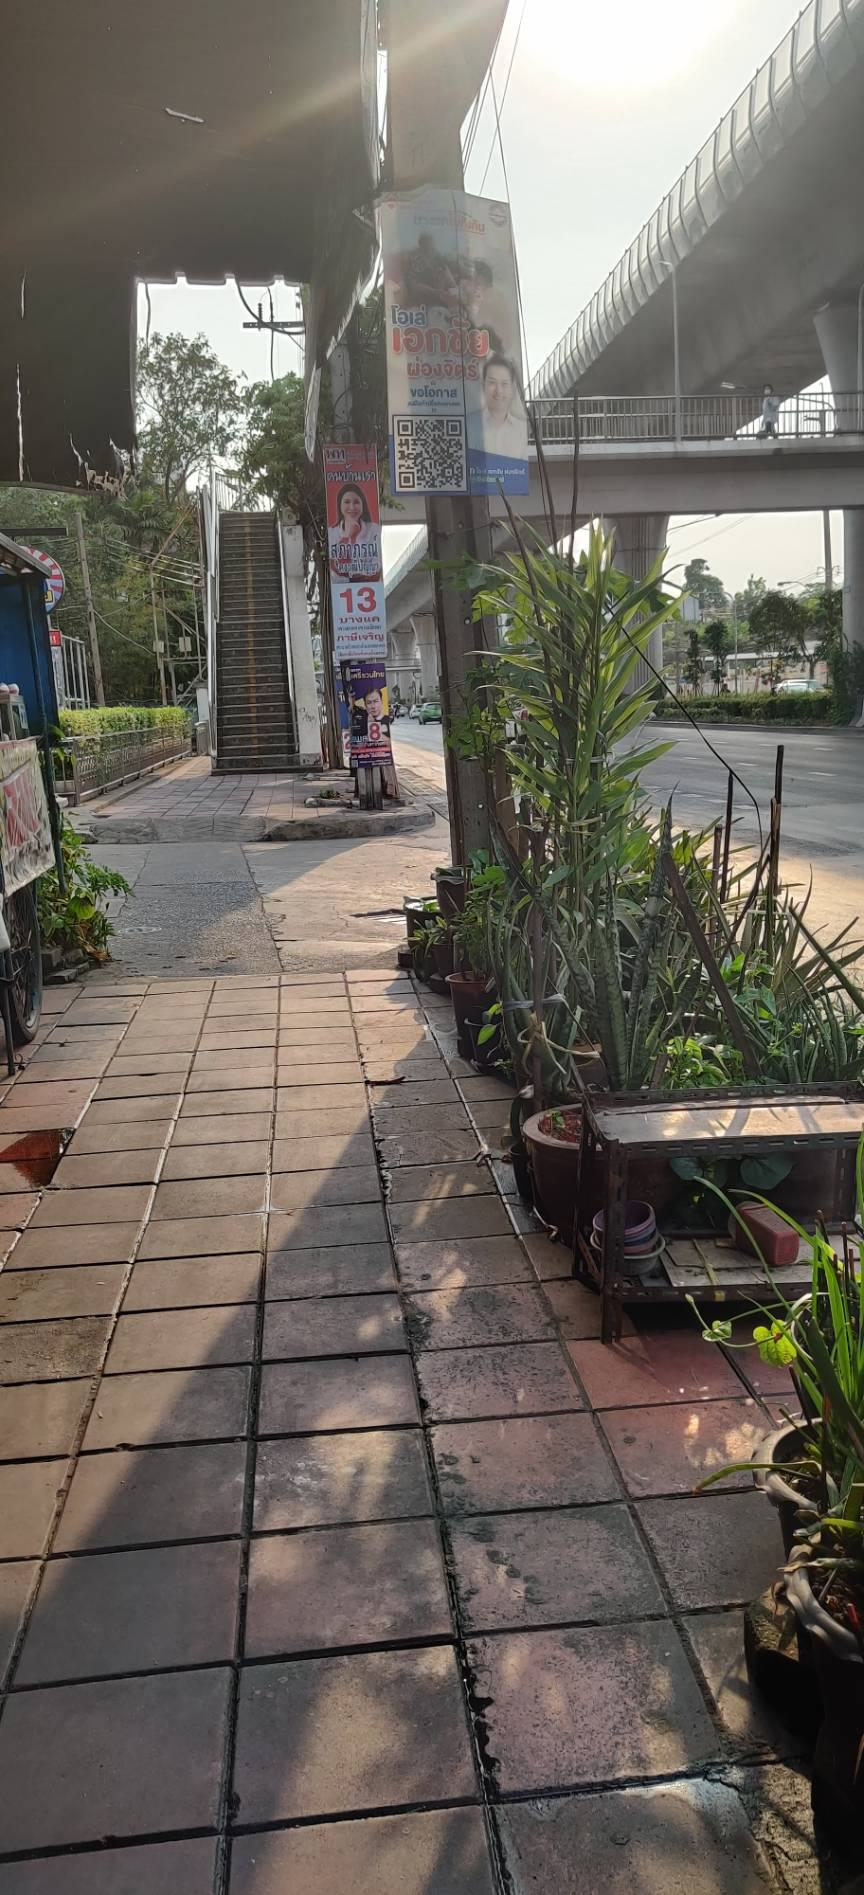Banner: (314, 436, 395, 761)
